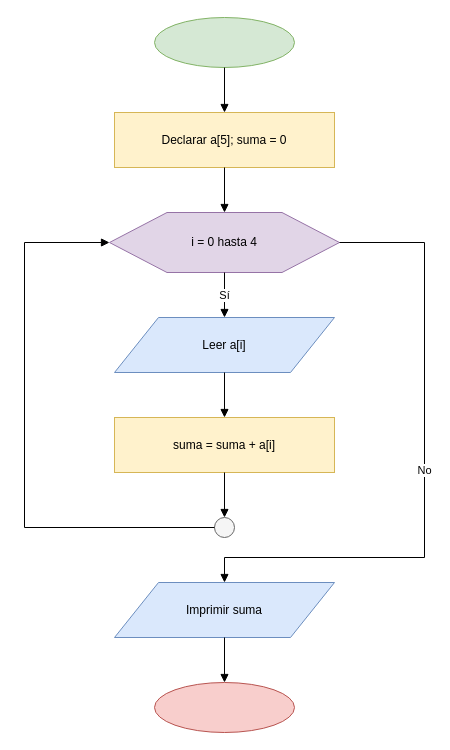
This 450x750 diagram has some shape labels left out. Here are the shapes that lost their labels. From the top down, the centre of each, then its label:
At pixel 224 42: "Inicio".
At pixel 224 707: "Fin".
